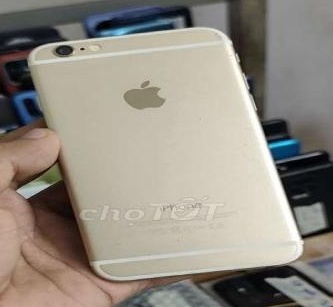scratch: (235, 138, 253, 149)
